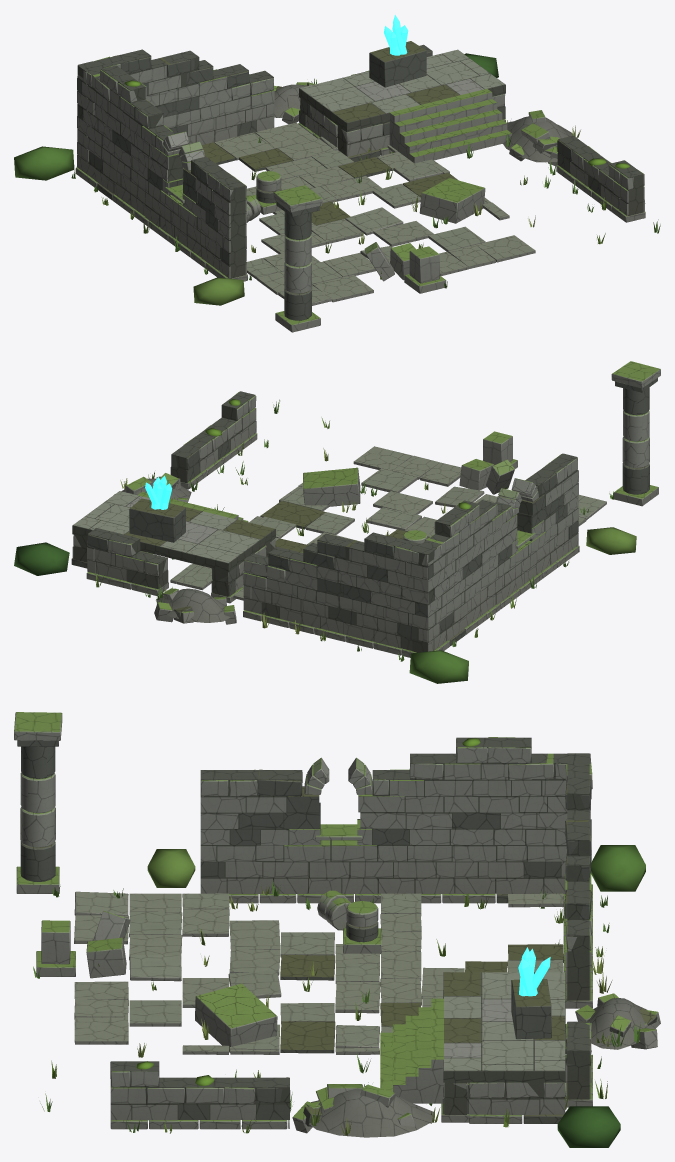
Rendered from forest_ruin.glb.
3 renders of one model, top to bottom at view 1: azimuth 30°, elevation 25°; view 2: azimuth 150°, elevation 25°; view 3: azimuth 270°, elevation 25°, orthographic. The views are drawn at different scales.
Visible parts, largest first — view 1: forest_ruin.001; view 2: forest_ruin.001; view 3: forest_ruin.001.
Part boxes in pixels (box(x1,y1,x2,y2)): forest_ruin.001: box(14, 15, 660, 332); forest_ruin.001: box(14, 361, 660, 683); forest_ruin.001: box(14, 712, 660, 1147).
Size of what is drawn, in the model's own units: 19.23 by 5.6 by 17.97.
Materials: 13 (12 with a texture image).
